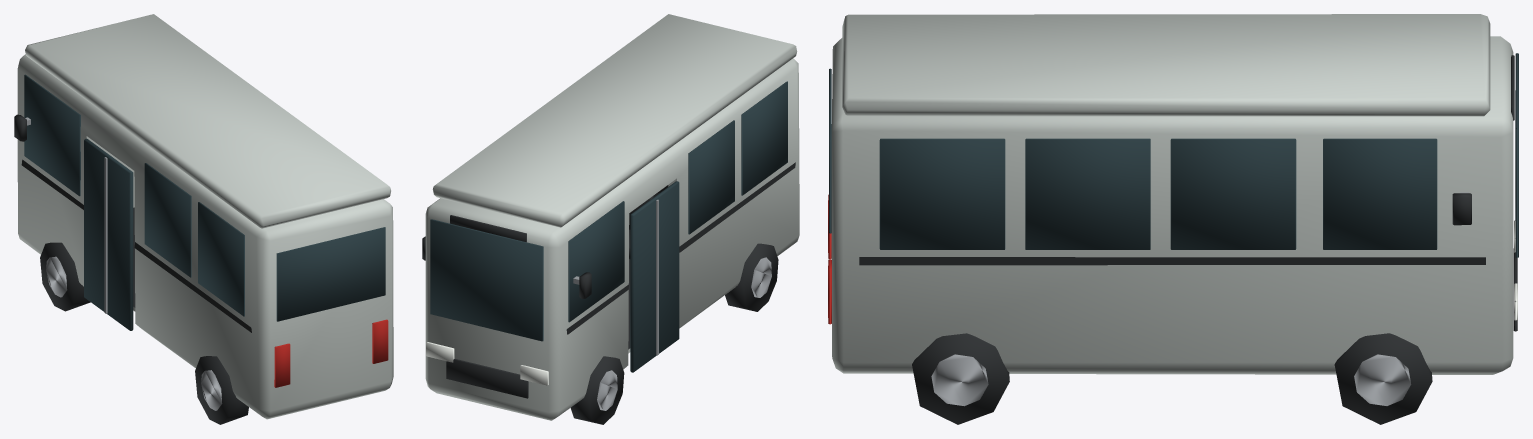
The model's file is shuttlebus-far.glb.
3 renders of one model, left to right at view 1: azimuth 30°, elevation 25°; view 2: azimuth 150°, elevation 25°; view 3: azimuth 270°, elevation 25°, orthographic. The views are drawn at different scales.
Visible parts, largest first — view 1: body, BoardingDoorLeft, WheelRearL, WheelFrontL; view 2: body, BoardingDoorLeft, WheelFrontL, WheelRearL; view 3: body, WheelFrontR, WheelRearR.
Part boxes in pixels (bbox=[...]): body: bbox=[14, 14, 393, 419]; BoardingDoorLeft: bbox=[84, 138, 133, 330]; WheelRearL: bbox=[195, 356, 248, 424]; WheelFrontL: bbox=[40, 242, 90, 311]; body: bbox=[422, 14, 799, 420]; BoardingDoorLeft: bbox=[630, 181, 679, 372]; WheelFrontL: bbox=[570, 356, 624, 424]; WheelRearL: bbox=[725, 243, 778, 311]; body: bbox=[828, 14, 1518, 374]; WheelFrontR: bbox=[1334, 333, 1432, 424]; WheelRearR: bbox=[912, 333, 1009, 424].
Bounding box in the file's own units: 2.08 × 2.86 × 5.56.
